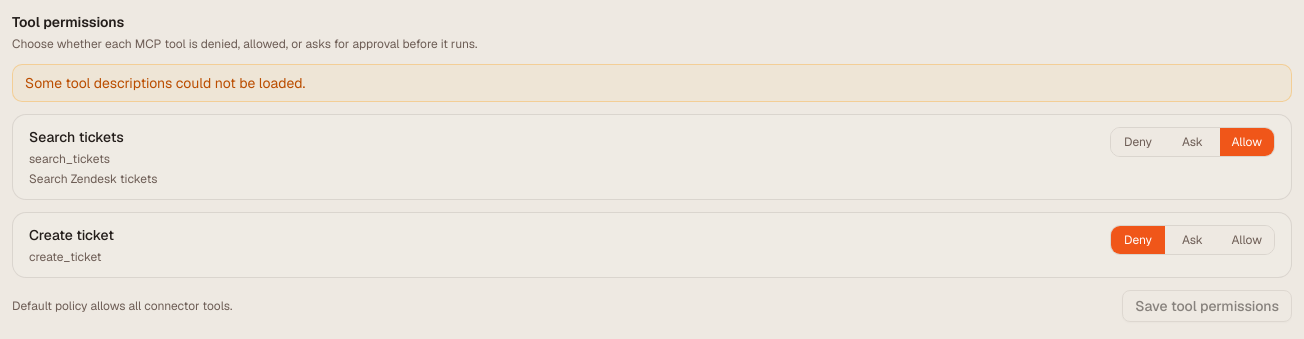
Test case: ConnectorToolPermissionsSection › loads tools and saves changed permissions
Check: the text "Search tickets" is shown, box [29,128,124,146]
Check: the text "Some tool descriptions could not be loaded." is shown, box [12,64,1292,102]
Step 1. Click the button "Ask" in the row of "Search tickets" → x=1192, y=142, box [1165,128,1220,156]
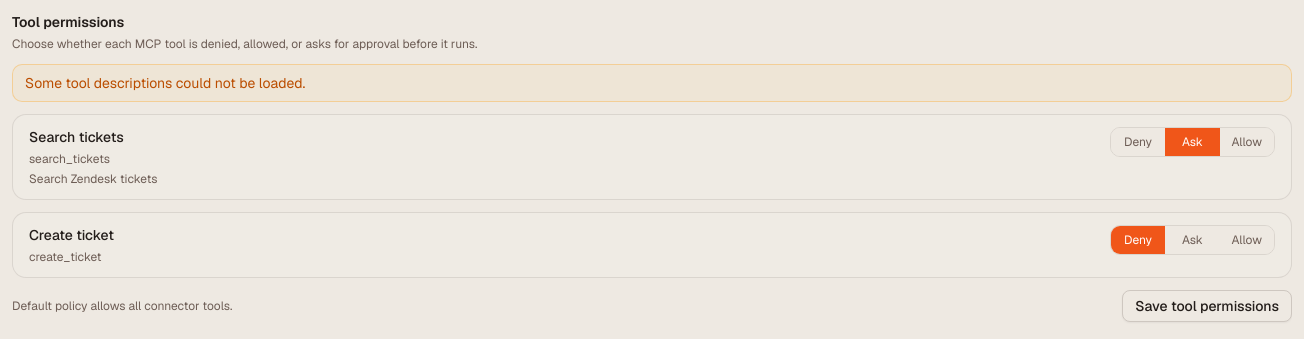
Check: the button "Save tool permissions" is enabled
Step 2. Click the button "Save tool permissions" → x=1207, y=306, box [1122,290,1292,322]
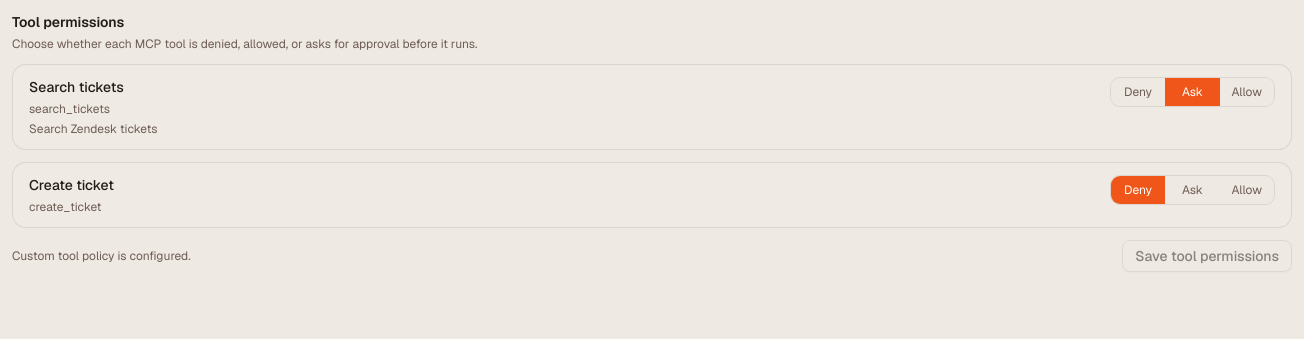
Check: the text "Custom tool policy is configured." is shown, box [12,248,191,264]
